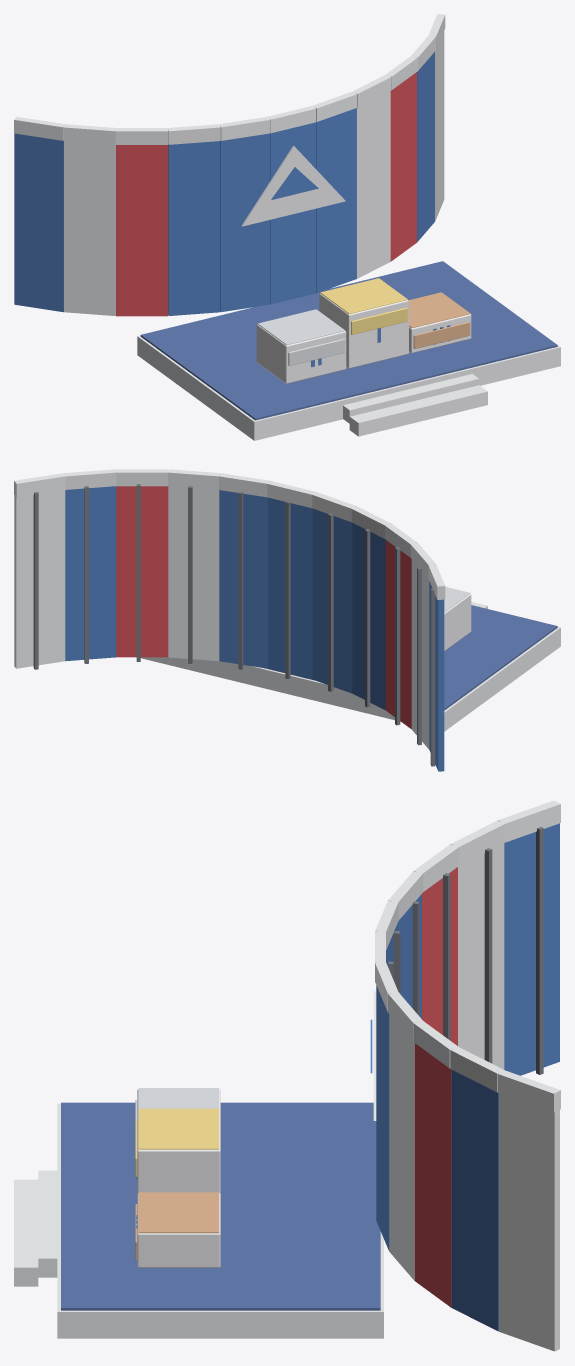
File: podium.glb
3 renders of one model, top to bottom at view 1: azimuth 30°, elevation 25°; view 2: azimuth 150°, elevation 25°; view 3: azimuth 270°, elevation 25°, orthographic. The views are drawn at different scales.
Visible parts, largest first — view 1: podium; view 2: podium; view 3: podium.
Part boxes in pixels (<box>): podium: <box>14,14,560,440</box>; podium: <box>14,469,560,771</box>; podium: <box>14,800,560,1351</box>.
Bounding box in the file's own units: 9.99 × 4.69 × 7.87.
